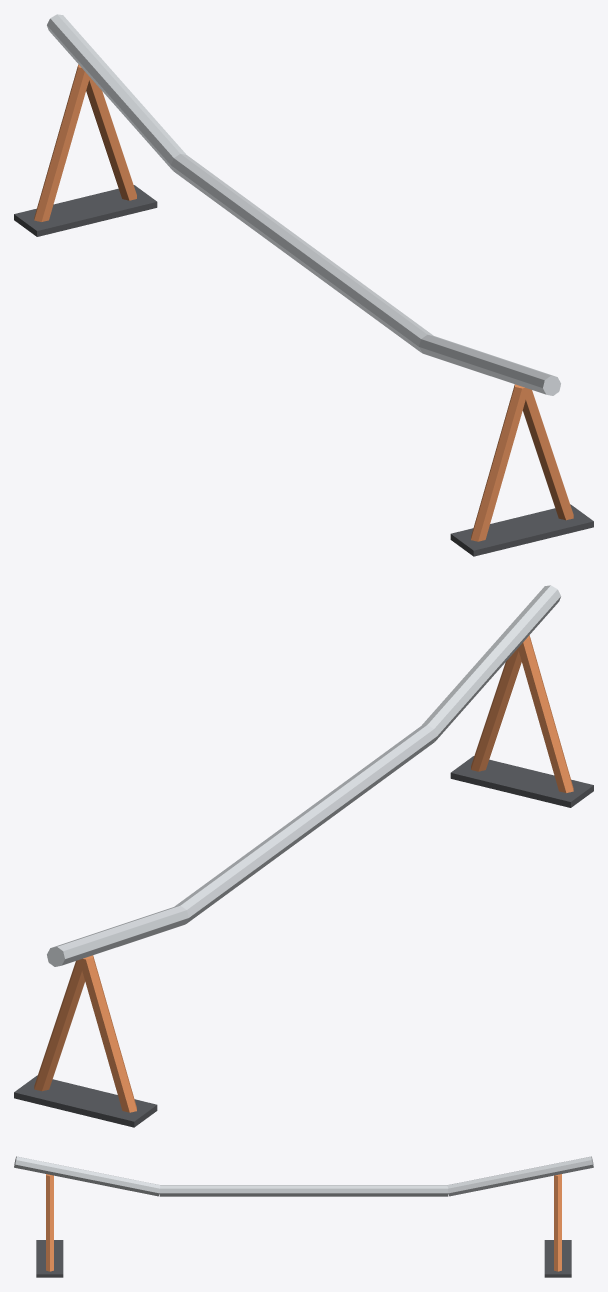
File: skate-park-and-street-sports-kinked-rail-b8a44af2__33522.glb
3 views of the same model, one above another, from view 1: azimuth 30°, elevation 25°; view 2: azimuth 150°, elevation 25°; view 3: azimuth 270°, elevation 25° (orthographic). The views are drawn at different scales.
Parts seen in each view (by area): view 1: kinked-rail-steel, kinked-rail-sunset, kinked-rail-charcoal; view 2: kinked-rail-steel, kinked-rail-sunset, kinked-rail-charcoal; view 3: kinked-rail-steel, kinked-rail-charcoal, kinked-rail-sunset.
Boxes of the visible parts, <box> form: kinked-rail-steel: <box>47,14,560,395</box>; kinked-rail-sunset: <box>34,64,573,541</box>; kinked-rail-charcoal: <box>14,185,593,556</box>; kinked-rail-steel: <box>47,585,560,966</box>; kinked-rail-sunset: <box>34,635,573,1112</box>; kinked-rail-charcoal: <box>14,756,593,1127</box>; kinked-rail-steel: <box>14,1156,593,1196</box>; kinked-rail-charcoal: <box>36,1240,571,1277</box>; kinked-rail-sunset: <box>46,1174,561,1271</box>.
Size of the model in its own units: 0.4198 by 0.5962 by 3.01.
